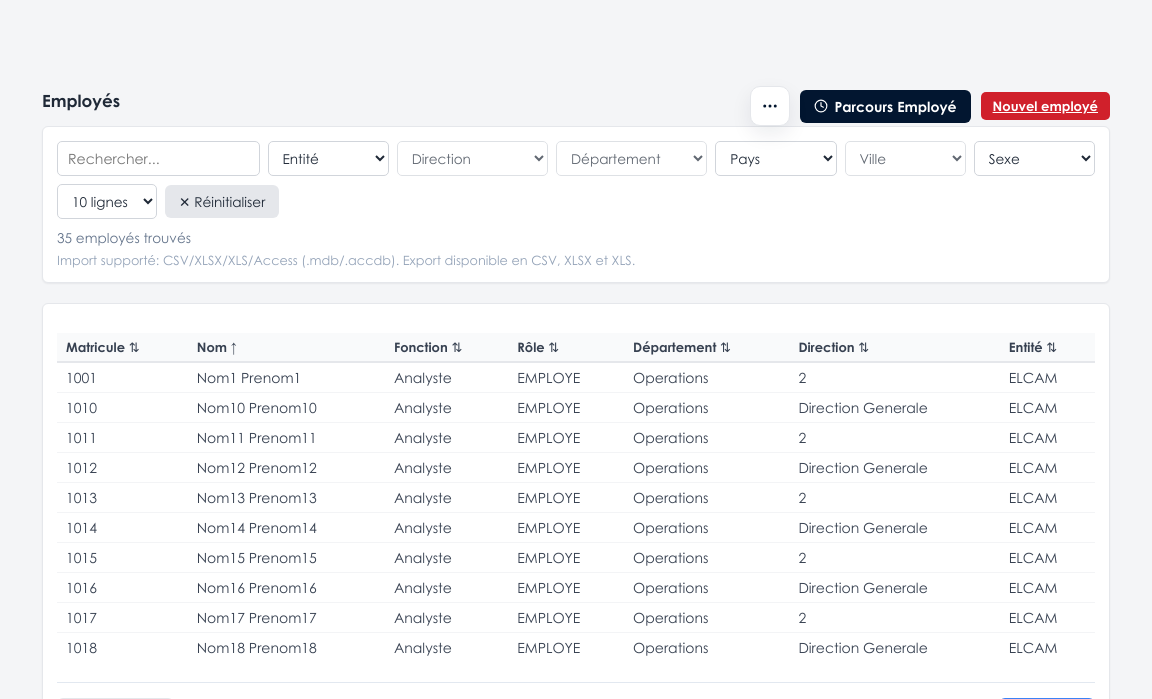
Test: Employees page › shows one-letter transparent avatar fallback in employee detail modal when no photo is provided
What coordinates should you click on to do the following:
click the text "1001"
I would click on:
 (576, 377)
Its box is top-left (57, 362), bottom-right (1095, 392).
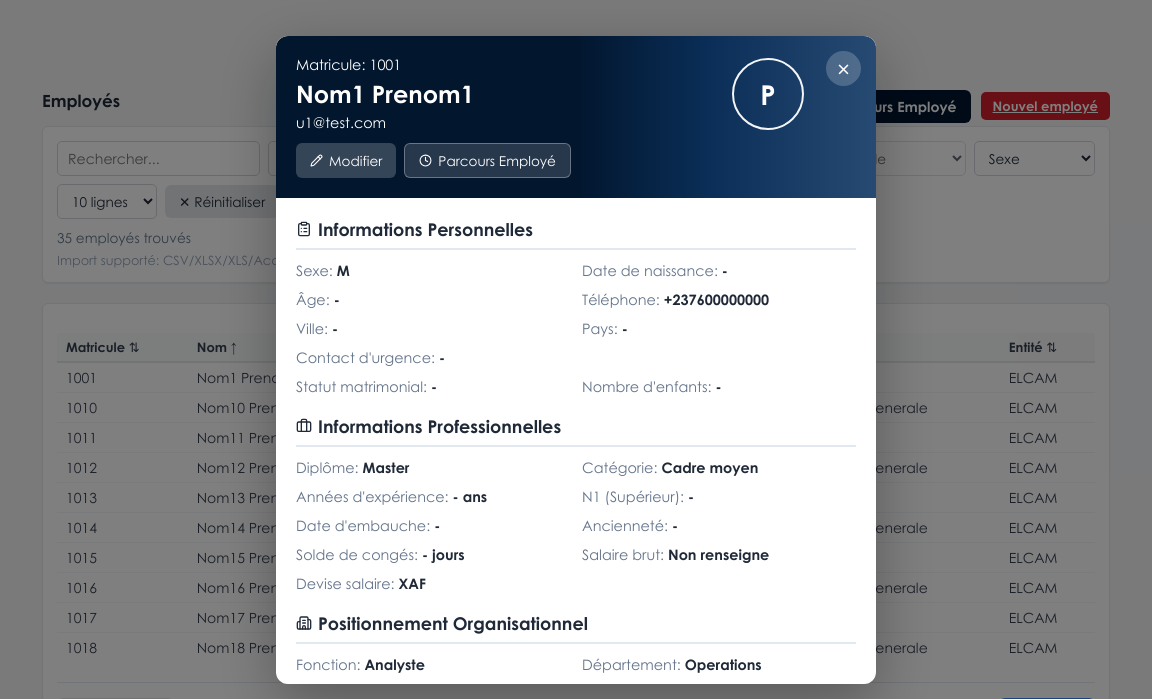
Expected: the text "Matricule: 1001" is shown, top-left (296, 56), bottom-right (401, 73)
Expected: the text "P" is shown, top-left (732, 58), bottom-right (804, 130)
